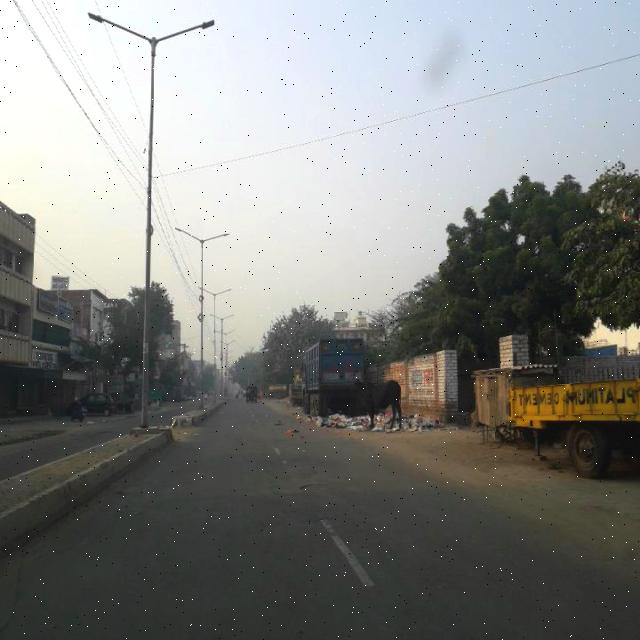D40: (296, 476, 332, 496)
D44: (313, 513, 381, 591)
